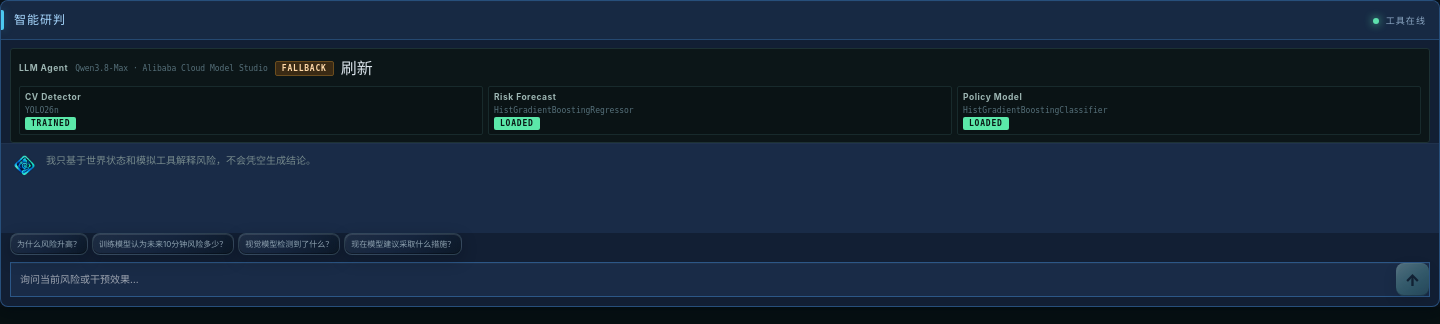
Test: ChatPanel Qwen 状态区 › 支持手动刷新陈旧状态：Offline 恢复 Online 后更新 CONNECTED
This screenshot has width=1440, height=324.
Click the button with aria-label "刷新 Qwen 状态": coordinates (357, 68) left=341, top=56, right=373, bottom=80
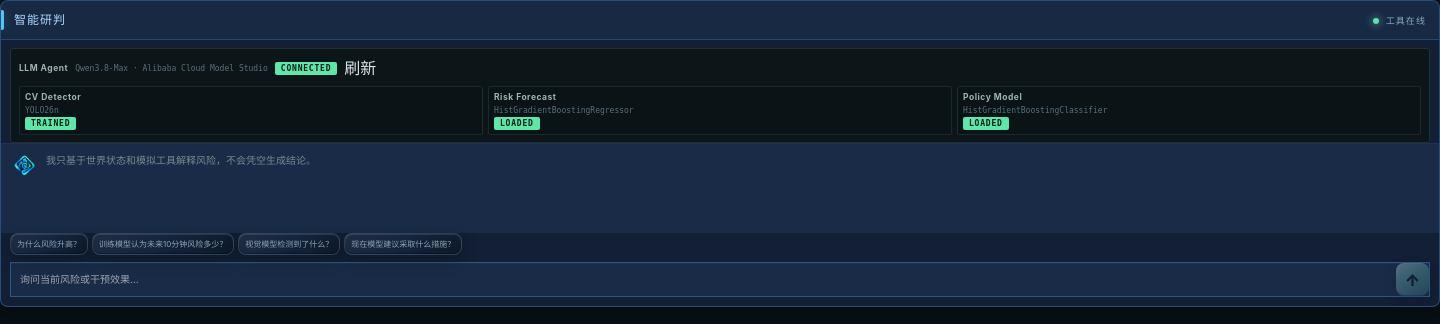
Expected: the text with test id "llm-status-badge" reads "CONNECTED", left=281, top=64, right=331, bottom=72
